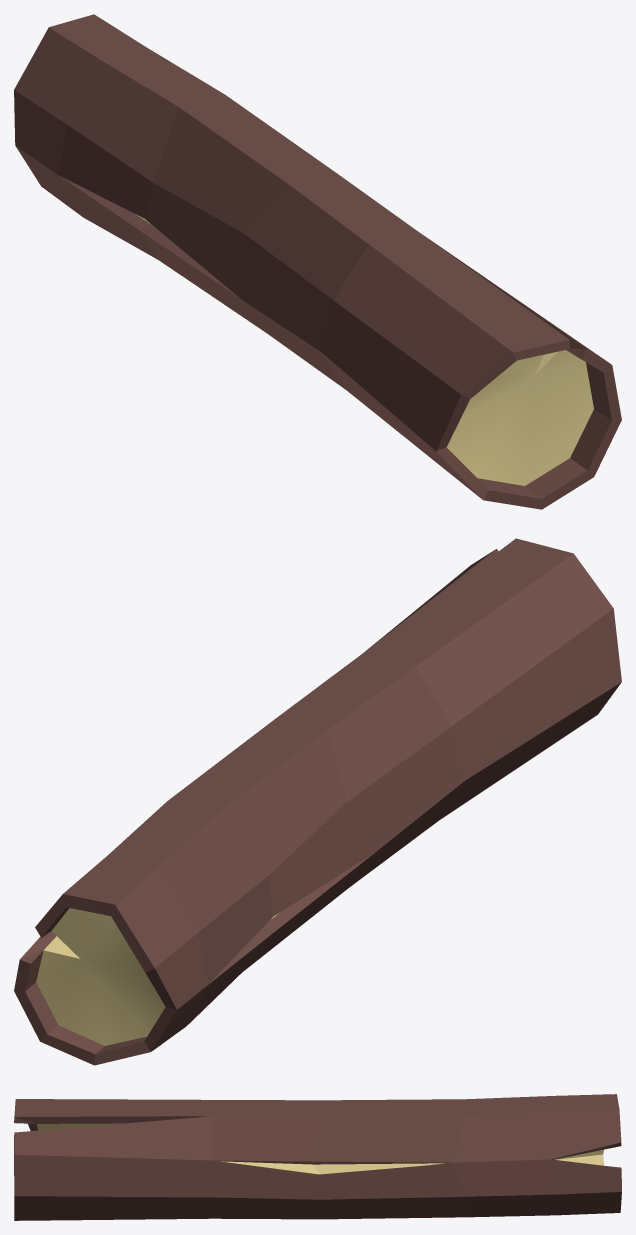
Rendered from WoodLog_NoDetails_Filled_Straight.fbx.
The picture shows the model from 3 angles, top to bottom: view 1: azimuth 30°, elevation 25°; view 2: azimuth 150°, elevation 25°; view 3: azimuth 270°, elevation 25°; orthographic projection. The views are drawn at different scales.
Parts seen in each view (by area): view 1: WoodLog; view 2: WoodLog; view 3: WoodLog.
Part boxes in pixels (x1,y1,x2,y2): WoodLog: (14, 14, 621, 509); WoodLog: (14, 538, 621, 1065); WoodLog: (14, 1094, 621, 1220).
Size of the model in its own units: 57.39 by 52.86 by 267.
